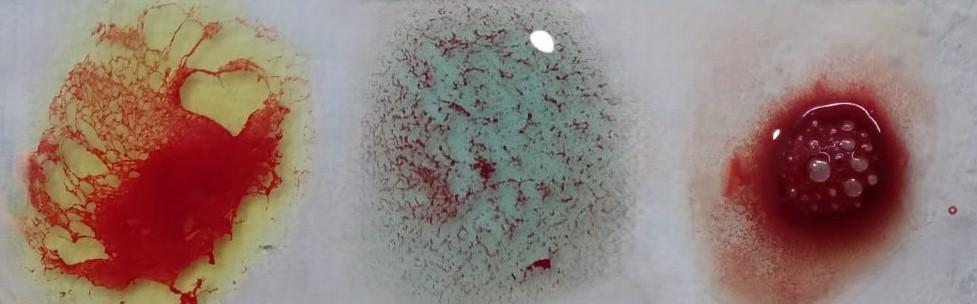A: (378, 12, 621, 304)
B: (36, 5, 288, 304)
D: (700, 41, 917, 304)
